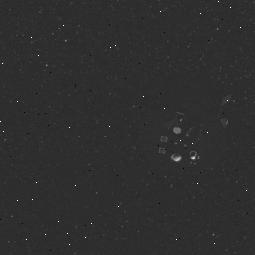proba_3_ocs: (136, 69, 233, 172)
